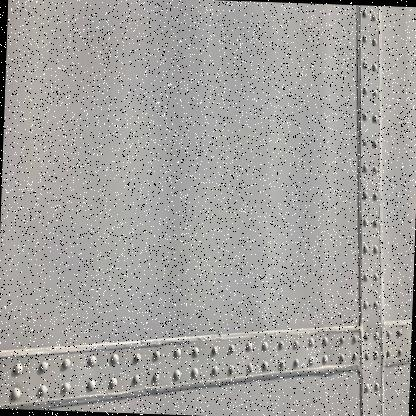Nocrack: (7, 9, 406, 402)
